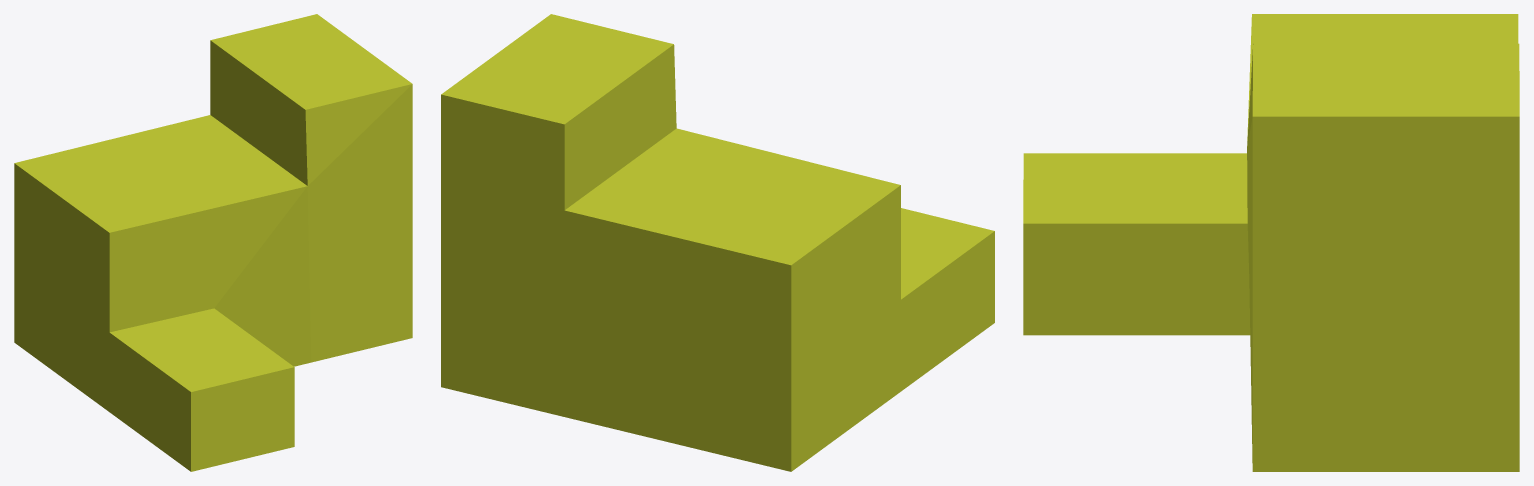
Rendered from Building10_colider.fbx.
3 views of the same model, side by side, from view 1: azimuth 30°, elevation 25°; view 2: azimuth 150°, elevation 25°; view 3: azimuth 270°, elevation 25° (orthographic). The views are drawn at different scales.
Parts seen in each view (by area): view 1: Building10_colider; view 2: Building10_colider; view 3: Building10_colider.
Part boxes in pixels (x1,y1,x2,y2): Building10_colider: [14, 14, 412, 471]; Building10_colider: [441, 14, 994, 471]; Building10_colider: [1023, 14, 1519, 471].
Bounding box in the file's own units: 1275 × 1021 × 1293.
